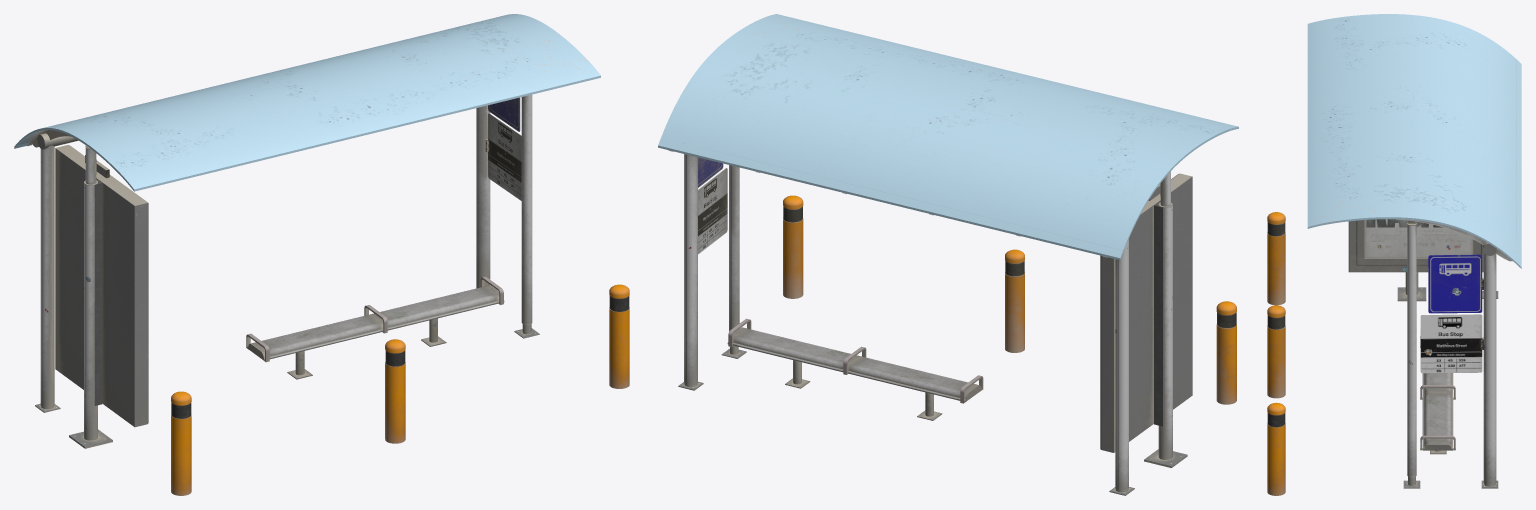
The model's file is standard_bus_stop.dae.
3 renders of one model, left to right at view 1: azimuth 30°, elevation 25°; view 2: azimuth 150°, elevation 25°; view 3: azimuth 270°, elevation 25°, orthographic. The views are drawn at different scales.
Visible parts, largest first — view 1: node_22f45ed7_5096_43da_8674_83080736b8ed_mesh0, node_079e6e7f_d6e1_4ff8_938b_ee4ba96a2e30_mesh0, node_67c59d26_ff7a_4f10_9698_00a60aa1f2eb_mesh0, node_841cad0b_dd71_450b_9b96_37c7005a8f05_mesh0; view 2: node_22f45ed7_5096_43da_8674_83080736b8ed_mesh0, node_079e6e7f_d6e1_4ff8_938b_ee4ba96a2e30_mesh0, node_841cad0b_dd71_450b_9b96_37c7005a8f05_mesh0, node_67c59d26_ff7a_4f10_9698_00a60aa1f2eb_mesh0; view 3: node_22f45ed7_5096_43da_8674_83080736b8ed_mesh0, node_079e6e7f_d6e1_4ff8_938b_ee4ba96a2e30_mesh0, node_841cad0b_dd71_450b_9b96_37c7005a8f05_mesh0, node_67c59d26_ff7a_4f10_9698_00a60aa1f2eb_mesh0, node_71f42228_2c05_4fb8_b992_d748a4633130_mesh0.
Boxes of the visible parts, x1,y1,x2,y2 form: node_22f45ed7_5096_43da_8674_83080736b8ed_mesh0: [14, 14, 600, 191]; node_079e6e7f_d6e1_4ff8_938b_ee4ba96a2e30_mesh0: [55, 97, 521, 427]; node_67c59d26_ff7a_4f10_9698_00a60aa1f2eb_mesh0: [35, 94, 539, 448]; node_841cad0b_dd71_450b_9b96_37c7005a8f05_mesh0: [171, 276, 629, 495]; node_22f45ed7_5096_43da_8674_83080736b8ed_mesh0: [658, 14, 1238, 260]; node_079e6e7f_d6e1_4ff8_938b_ee4ba96a2e30_mesh0: [698, 157, 1192, 452]; node_841cad0b_dd71_450b_9b96_37c7005a8f05_mesh0: [727, 195, 1236, 420]; node_67c59d26_ff7a_4f10_9698_00a60aa1f2eb_mesh0: [678, 154, 1187, 495]; node_22f45ed7_5096_43da_8674_83080736b8ed_mesh0: [1307, 14, 1521, 268]; node_079e6e7f_d6e1_4ff8_938b_ee4ba96a2e30_mesh0: [1348, 219, 1484, 373]; node_841cad0b_dd71_450b_9b96_37c7005a8f05_mesh0: [1267, 212, 1455, 495]; node_67c59d26_ff7a_4f10_9698_00a60aa1f2eb_mesh0: [1397, 220, 1498, 488]; node_71f42228_2c05_4fb8_b992_d748a4633130_mesh0: [1396, 219, 1512, 261].
Size of the model in its own units: 4.84 by 2.99 by 2.51.
Materials: 4 (4 with a texture image).
